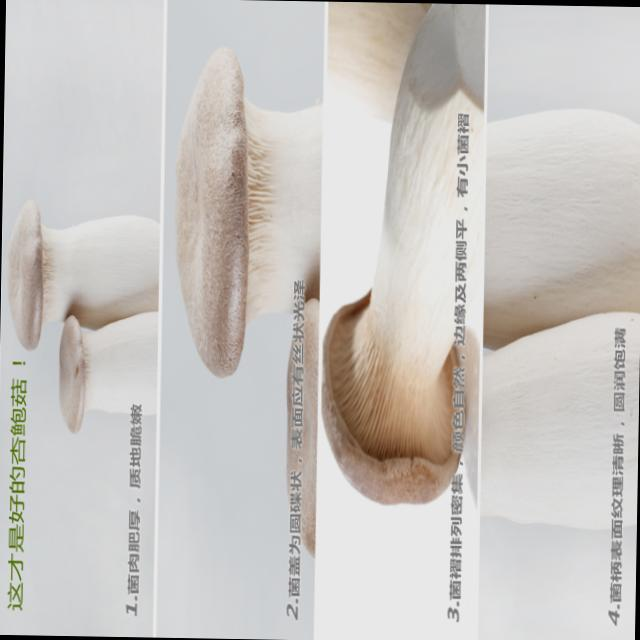Pleurotus eryngii: (324, 0, 486, 502), (176, 46, 324, 370), (6, 196, 158, 428)
